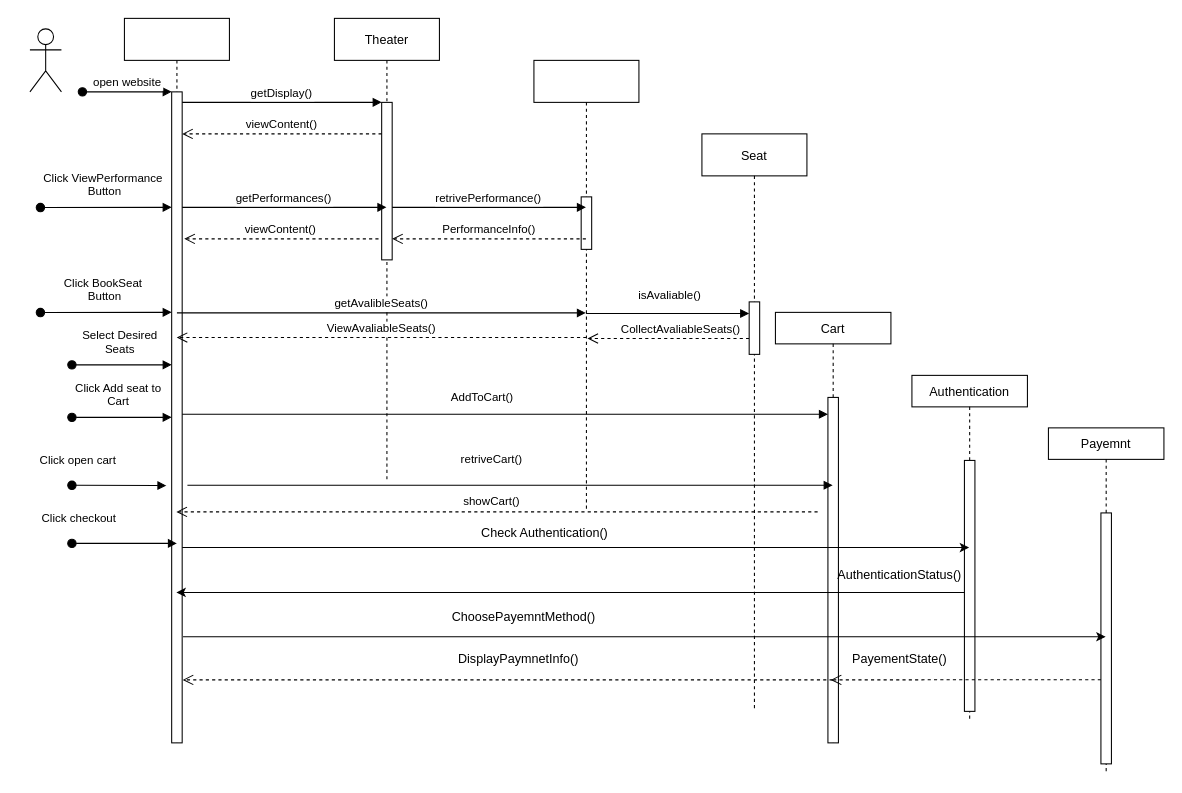
The diagram is 1182 pixels wide and 793 high, and some of its shapes have lost their labels. Here are the shapes that lost their labels. From the top down, the box of each, then its label:
(29, 28, 61, 92): Customer
(533, 59, 639, 512): Performance
(123, 17, 229, 743): Interface UI
